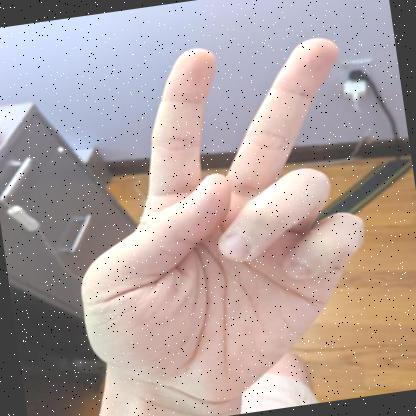K: (81, 37, 364, 416)
